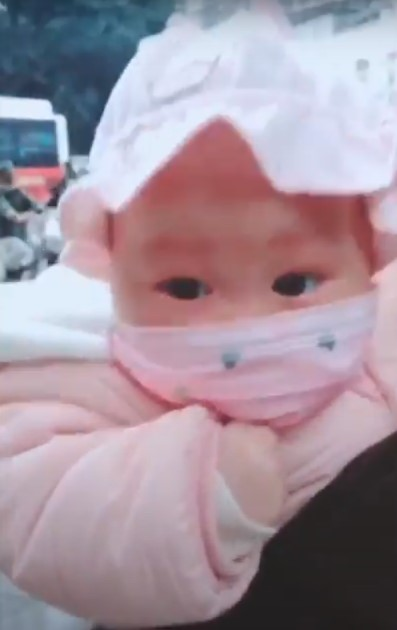face_with_mask: (64, 16, 382, 431)
